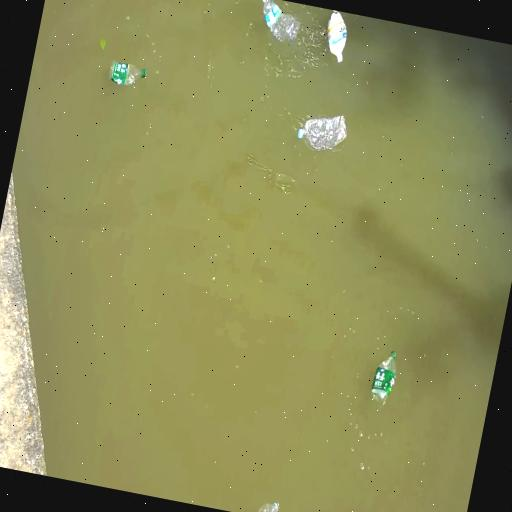plastic: (297, 115, 346, 150), (370, 350, 396, 408), (326, 11, 346, 62), (108, 61, 145, 86), (257, 502, 278, 511)
